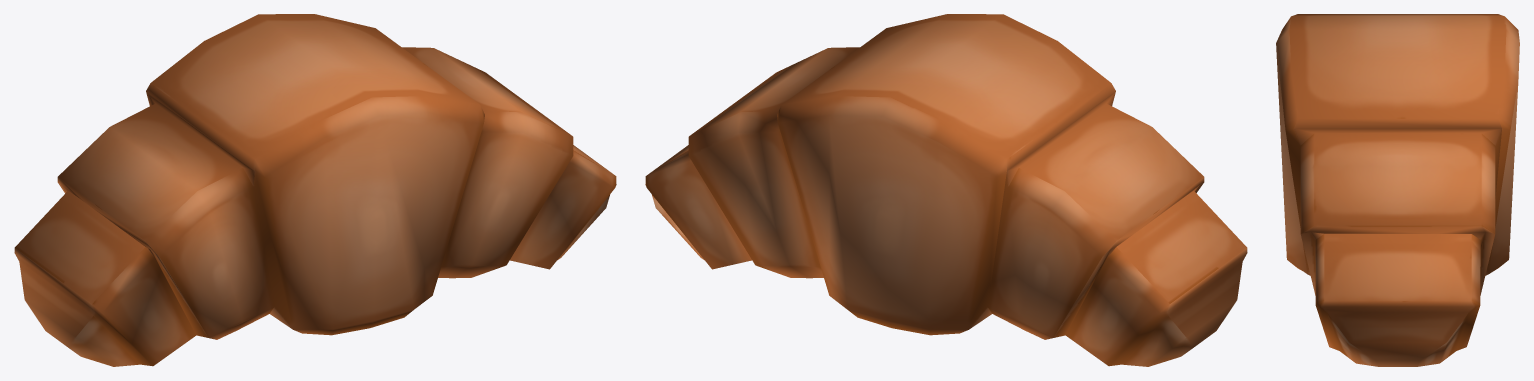
The model's file is cwosionf.fbx.
3 views of the same model, side by side, from view 1: azimuth 30°, elevation 25°; view 2: azimuth 150°, elevation 25°; view 3: azimuth 270°, elevation 25° (orthographic). The views are drawn at different scales.
Visible parts, largest first — view 1: Cube; view 2: Cube; view 3: Cube.
Boxes of the visible parts, x1,y1,x2,y2 form: Cube: [14, 14, 616, 366]; Cube: [645, 14, 1247, 366]; Cube: [1276, 14, 1519, 366].
Bounding box in the file's own units: 512 × 222 × 214.
